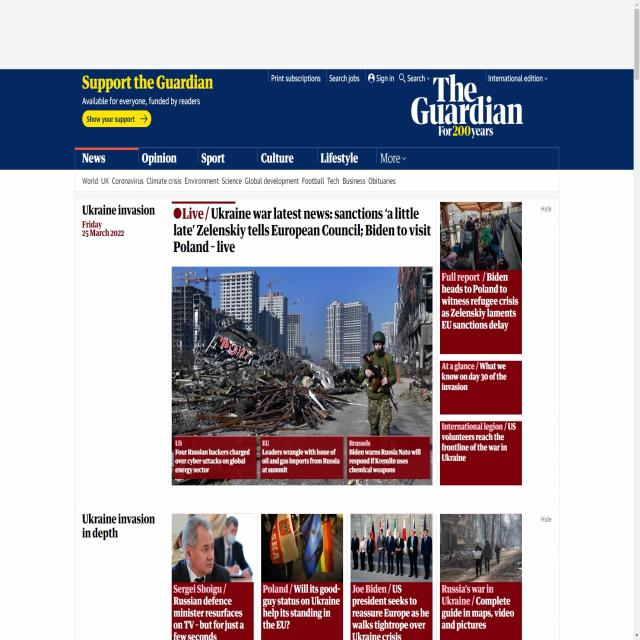menu-bar: (74, 145, 560, 171), (268, 69, 431, 85)
